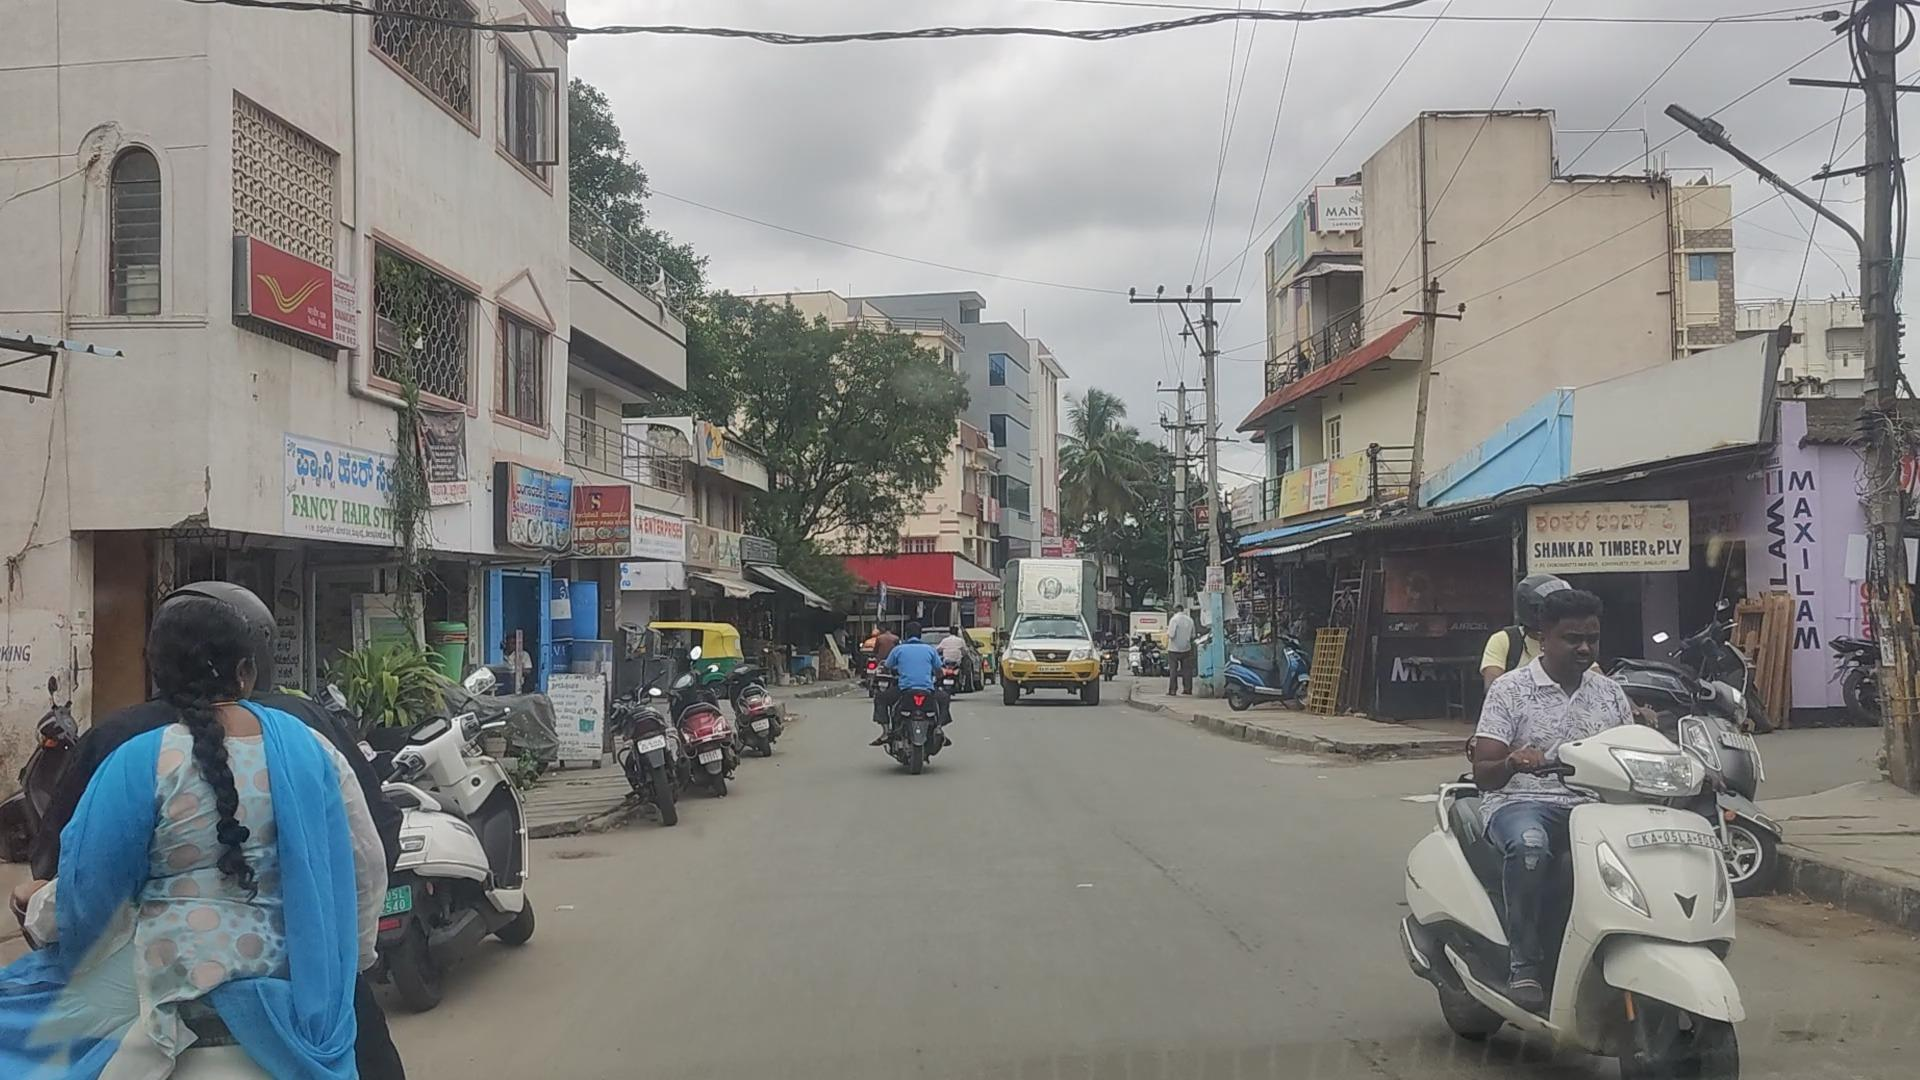LMV: (1402, 591, 1747, 1080), (894, 613, 960, 782)
